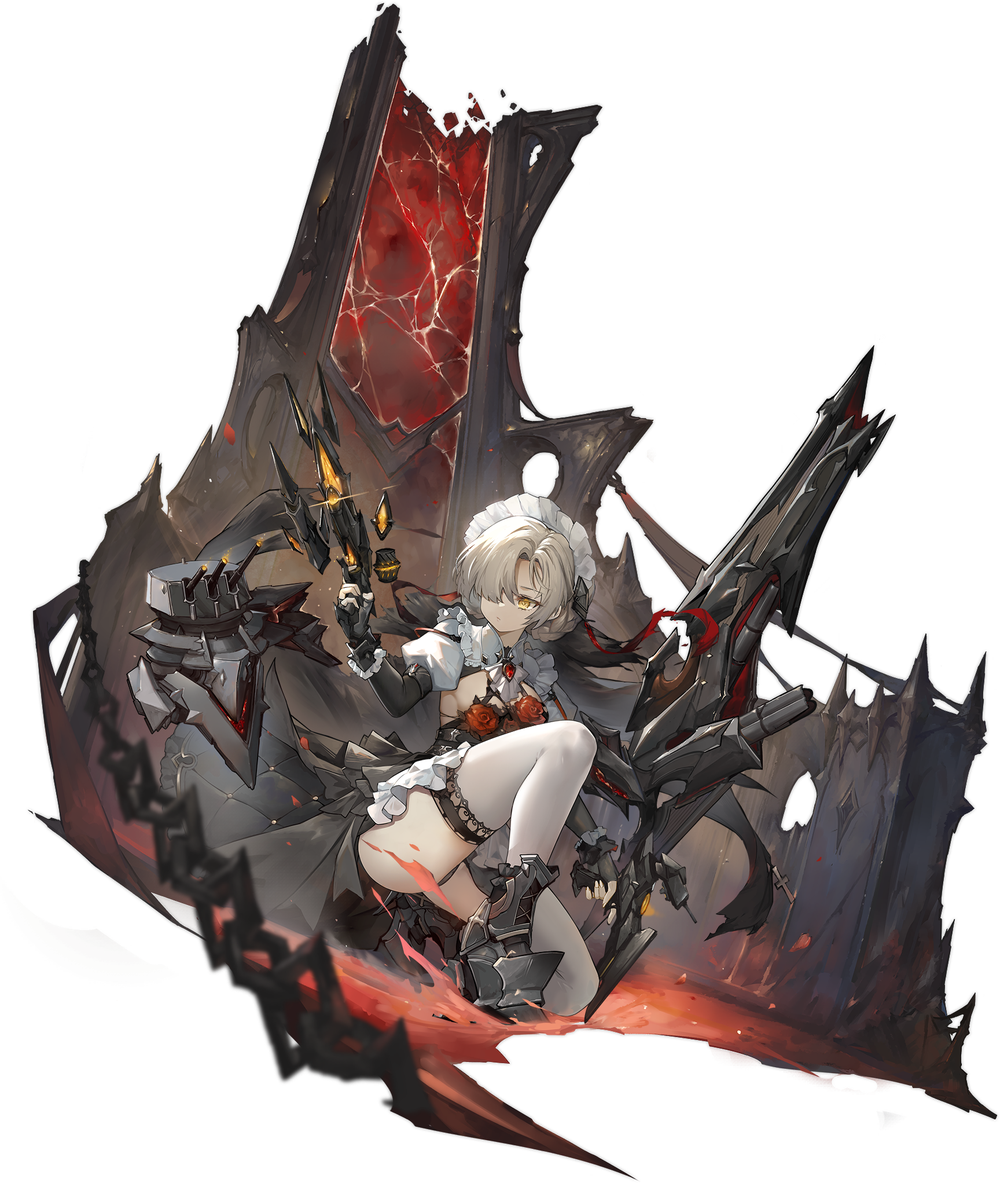person: (297, 435, 661, 1071)
